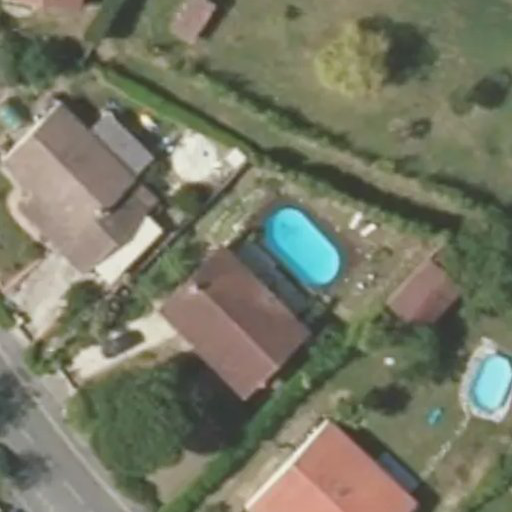pool: (210, 226, 301, 257)
